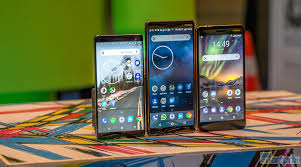nokia: (144, 18, 202, 135)
